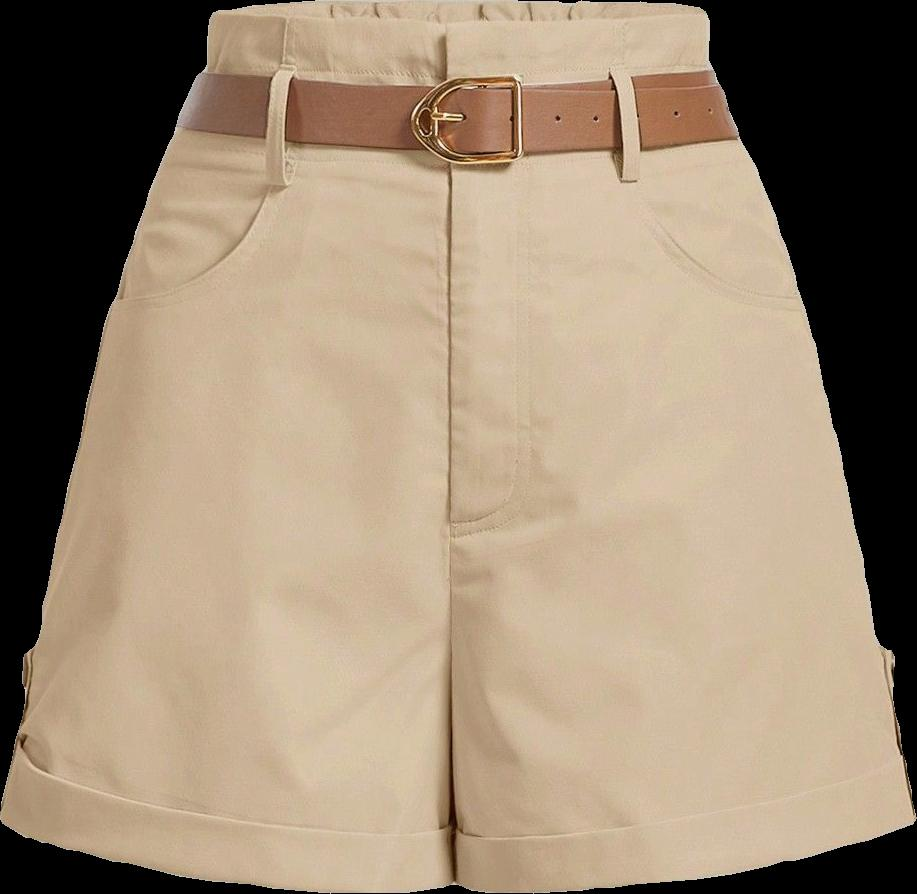Hemline: (0, 809, 455, 893), (455, 811, 916, 893)
Pantleg: (445, 0, 915, 891), (0, 0, 451, 891)
Waistline: (204, 51, 709, 81), (210, 6, 706, 28)
